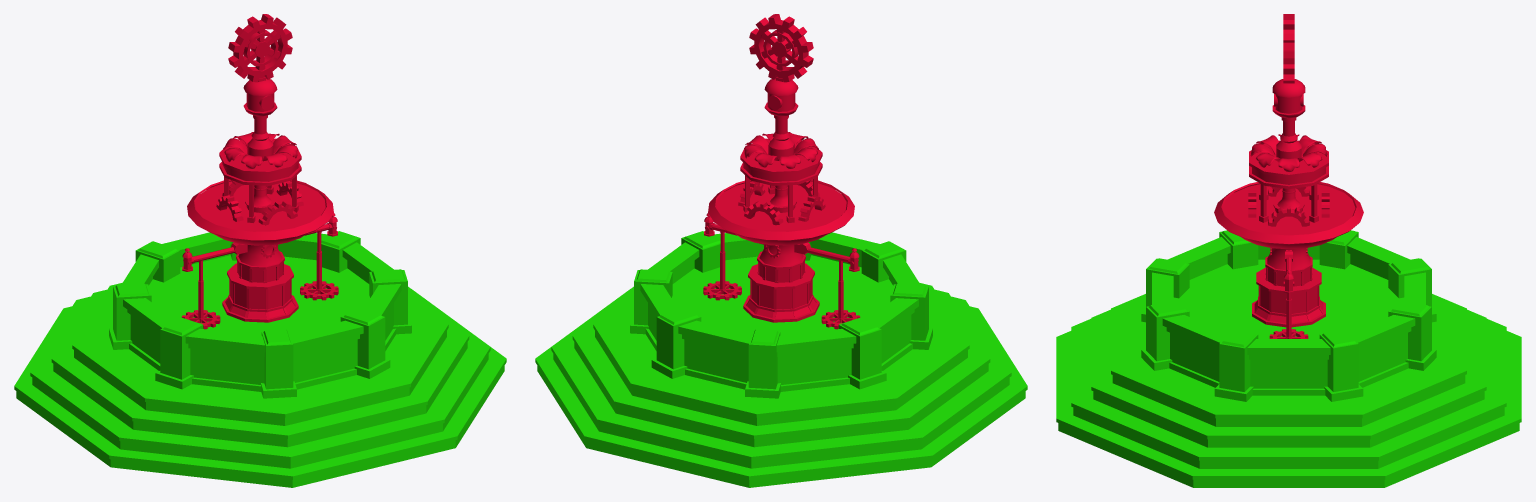
The model's file is SM_town_fountain.fbx.
3 renders of one model, left to right at view 1: azimuth 30°, elevation 25°; view 2: azimuth 150°, elevation 25°; view 3: azimuth 270°, elevation 25°, orthographic.
Visible parts, largest first — view 1: F_stairs, F_main; view 2: F_stairs, F_main; view 3: F_stairs, F_main.
Part boxes in pixels (x1,y1,x2,y2): F_stairs: (14,231,506,487); F_main: (181,14,338,329); F_stairs: (535,231,1027,487); F_main: (703,14,860,329); F_stairs: (1056,230,1521,487); F_main: (1214,14,1363,338).
Bounding box in the file's own units: 597 × 527 × 597.
